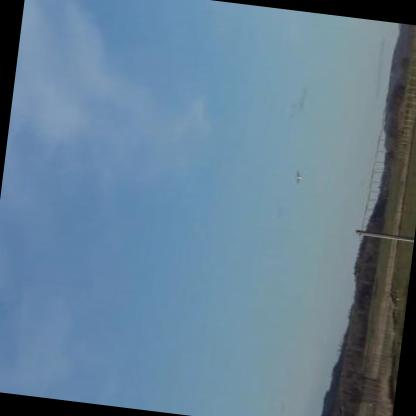plane: (291, 167, 307, 185)
